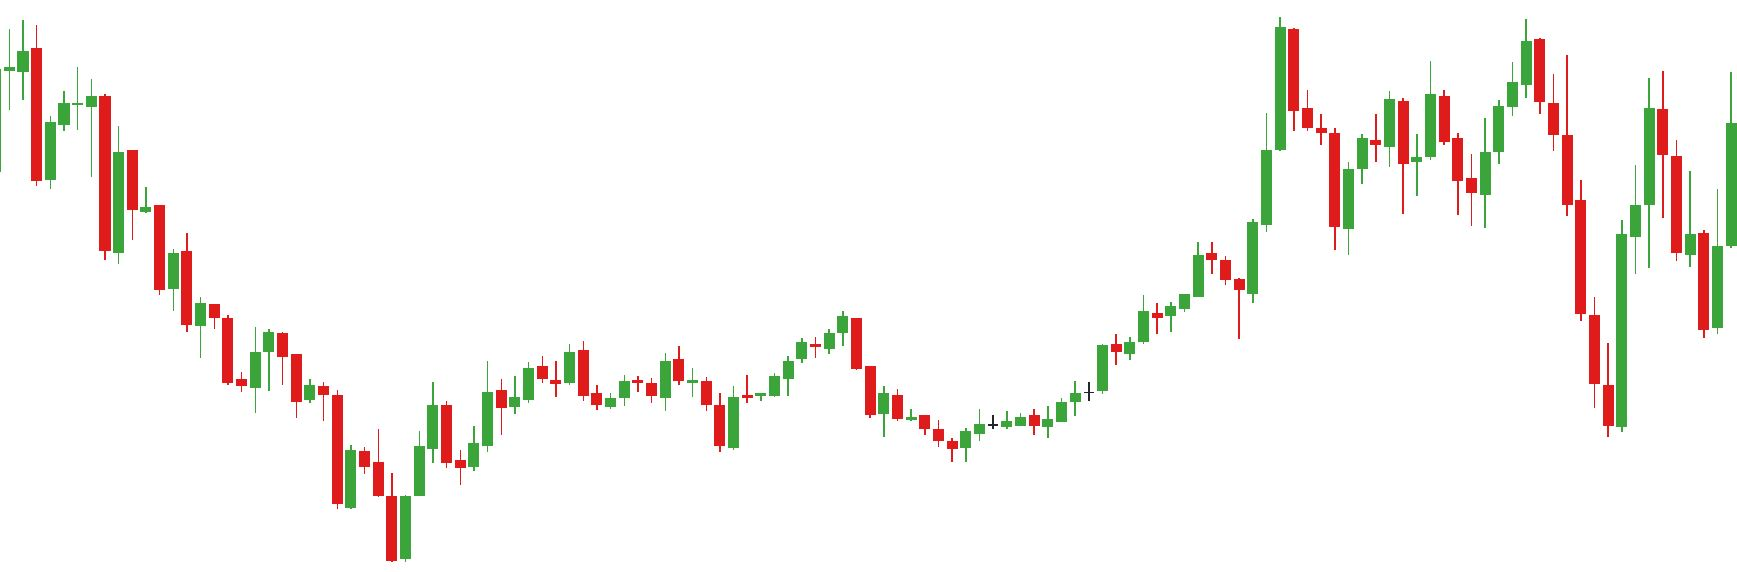buy: (1231, 181, 1628, 442)
sell: (1423, 17, 1546, 161)
